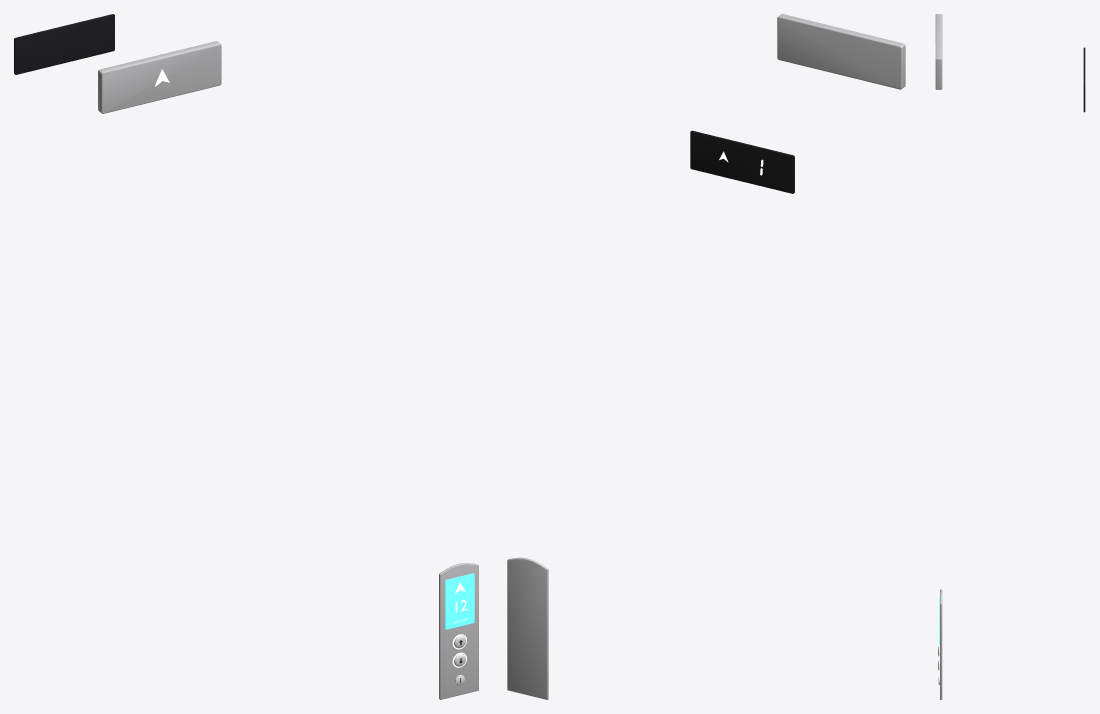
The model's file is hall_HHP12.glb.
3 renders of one model, left to right at view 1: azimuth 30°, elevation 25°; view 2: azimuth 150°, elevation 25°; view 3: azimuth 270°, elevation 25°, orthographic. The views are drawn at different scales.
Parts seen in each view (by area): view 1: Hall_Lantern, Indicator_Glass, Call_Plate, Call_Display; view 2: Hall_Lantern, Call_Plate, Indicator_Glass; view 3: Hall_Lantern, Call_Plate.
Part boxes in pixels (x1,y1,x2,y2): Hall_Lantern: [98, 41, 221, 113]; Indicator_Glass: [14, 14, 114, 74]; Call_Plate: [439, 563, 478, 699]; Call_Display: [445, 573, 474, 629]; Hall_Lantern: [777, 14, 905, 89]; Call_Plate: [507, 557, 548, 699]; Indicator_Glass: [690, 130, 794, 193]; Hall_Lantern: [935, 14, 942, 89]; Call_Plate: [940, 589, 942, 699].
Size of the model in its own units: 0.759 by 1.36 by 0.3425.
